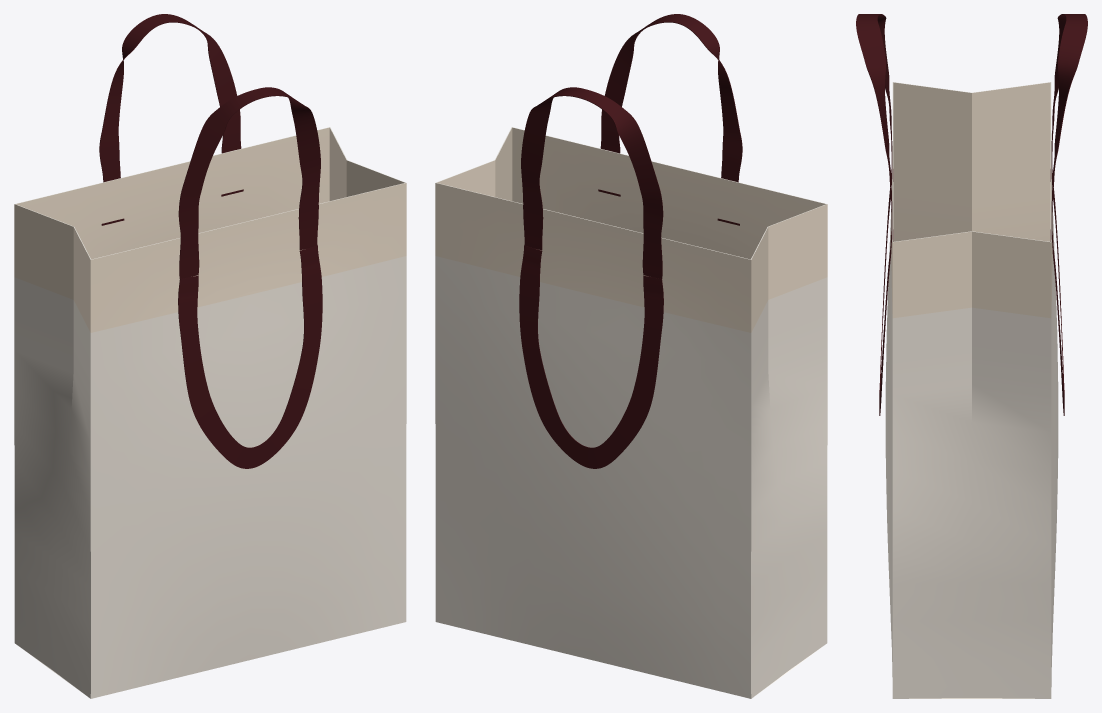
The model's file is bag.glb.
3 renders of one model, left to right at view 1: azimuth 30°, elevation 25°; view 2: azimuth 150°, elevation 25°; view 3: azimuth 270°, elevation 25°, orthographic. The views are drawn at different scales.
Parts seen in each view (by area): view 1: bag_body, bag_ribbon_down_f, bag_ribbon_up_f, bag_ribbon_up_b; view 2: bag_body, bag_ribbon_down_b, bag_ribbon_up_b, bag_ribbon_up_f; view 3: bag_body, bag_ribbon_up_b, bag_ribbon_up_f, bag_ribbon_down_b, bag_ribbon_down_f.
Part boxes in pixels (left/top/right/bottom): bag_body: left=14, top=127, right=406, bottom=698; bag_ribbon_down_f: left=178, top=245, right=322, bottom=468; bag_ribbon_up_f: left=178, top=87, right=320, bottom=278; bag_ribbon_up_b: left=99, top=14, right=241, bottom=182; bag_body: left=435, top=127, right=827, bottom=698; bag_ribbon_down_b: left=519, top=245, right=663, bottom=468; bag_ribbon_up_b: left=521, top=87, right=663, bottom=278; bag_ribbon_up_f: left=600, top=14, right=742, bottom=182; bag_body: left=885, top=82, right=1058, bottom=698; bag_ribbon_up_b: left=1051, top=14, right=1087, bottom=239; bag_ribbon_up_f: left=856, top=14, right=892, bottom=239; bag_ribbon_down_b: left=1050, top=169, right=1064, bottom=415; bag_ribbon_down_f: left=879, top=169, right=893, bottom=415.
Size of the model in its own units: 0.2414 by 0.4208 by 0.1475.
